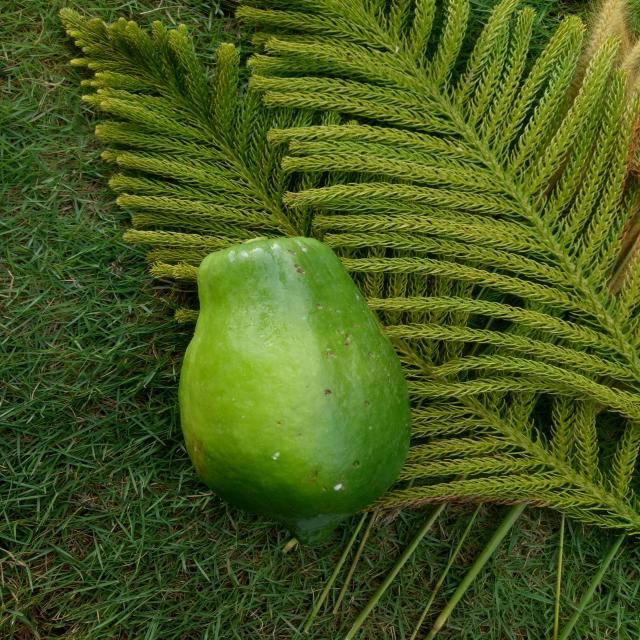Pepaya unrippen: (168, 234, 409, 542)
